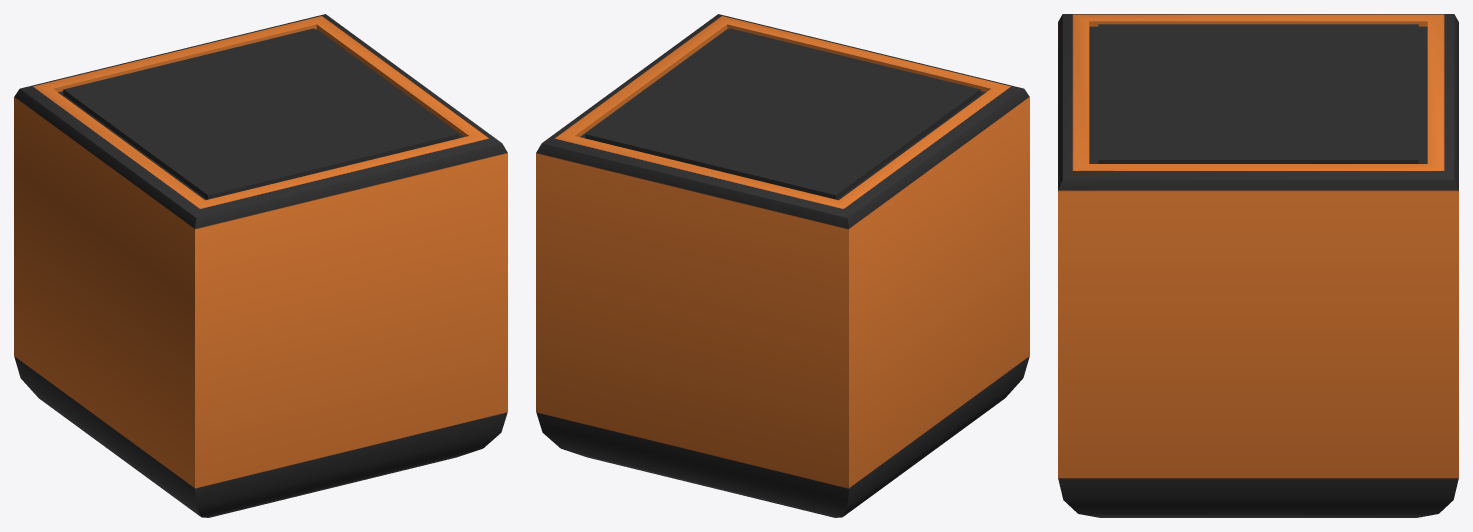
File: Plataforma2_CubeAdventure.fbx
The picture shows the model from 3 angles, left to right: view 1: azimuth 30°, elevation 25°; view 2: azimuth 150°, elevation 25°; view 3: azimuth 270°, elevation 25°; orthographic projection. The views are drawn at different scales.
Visible parts, largest first — view 1: plataforma 2; view 2: plataforma 2; view 3: plataforma 2.
Part boxes in pixels (x1,y1,x2,y2): plataforma 2: (14,14,507,517); plataforma 2: (536,14,1029,517); plataforma 2: (1058,14,1458,517).
Size of the model in its own units: 522 by 522 by 522.
Materials: 1 (1 with a texture image).
